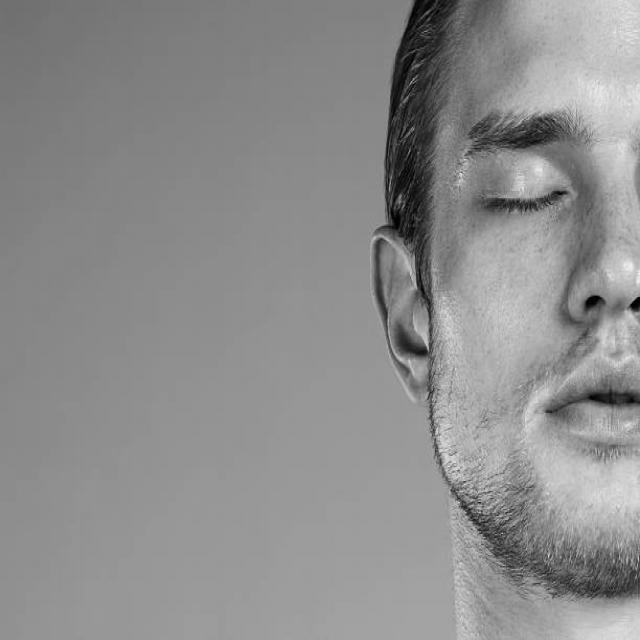real: (369, 1, 640, 599), (448, 84, 638, 242)
